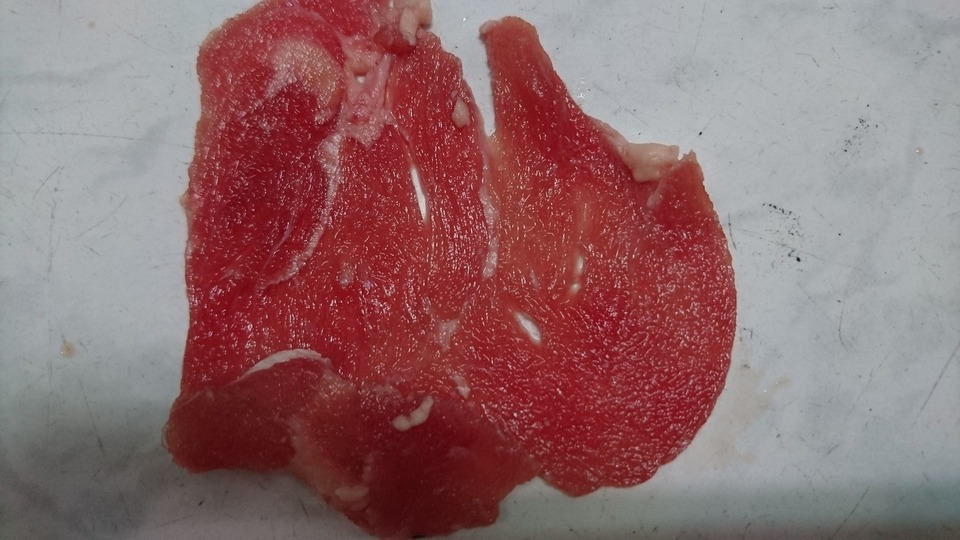restructured meat: (166, 17, 735, 524)
